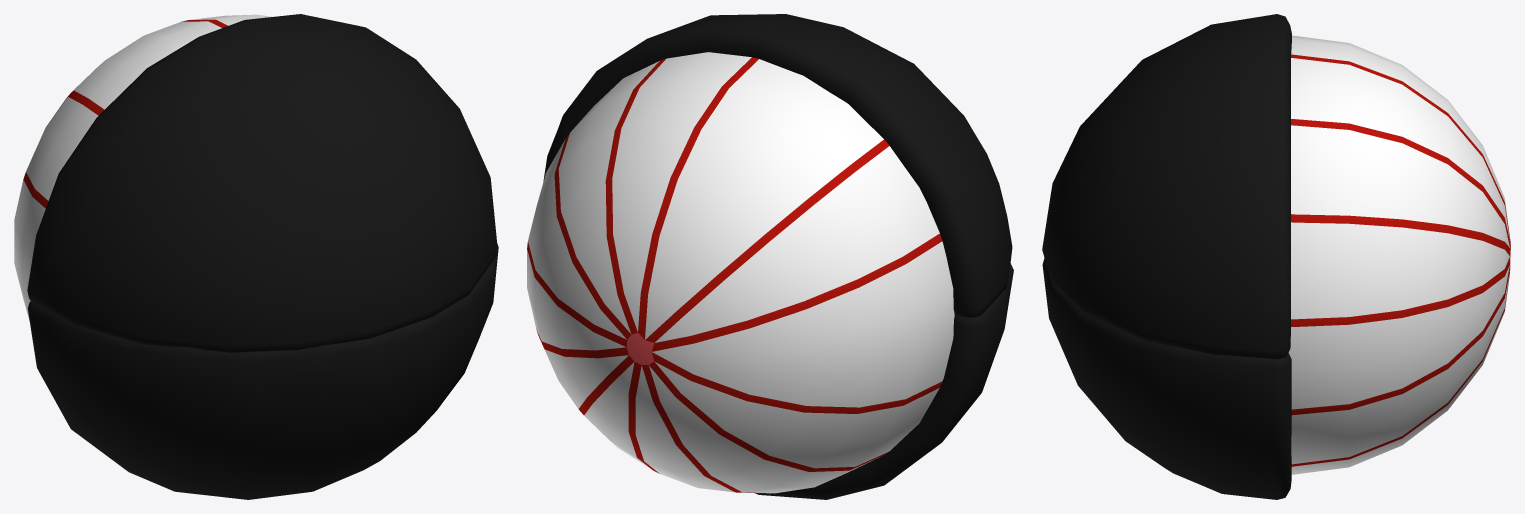
Rendered from eye (1).fbx.
3 views of the same model, side by side, from view 1: azimuth 30°, elevation 25°; view 2: azimuth 150°, elevation 25°; view 3: azimuth 270°, elevation 25° (orthographic). The views are drawn at different scales.
Parts seen in each view (by area): view 1: eyelid_1, eyelid_2, eye; view 2: eye, eyelid_1, eyelid_2; view 3: eye, eyelid_1, eyelid_2.
Part boxes in pixels (left/top/right/bottom): eyelid_1: left=27, top=14, right=497, bottom=352; eyelid_2: left=27, top=244, right=498, bottom=499; eye: left=14, top=14, right=271, bottom=320; eye: left=527, top=52, right=954, bottom=493; eyelid_1: left=543, top=14, right=1012, bottom=317; eyelid_2: left=755, top=263, right=1013, bottom=499; eye: left=1288, top=35, right=1510, bottom=474; eyelid_1: left=1042, top=14, right=1291, bottom=359; eyelid_2: left=1042, top=258, right=1291, bottom=499.
Size of the model in its own units: 29.49 by 29.38 by 28.23.
